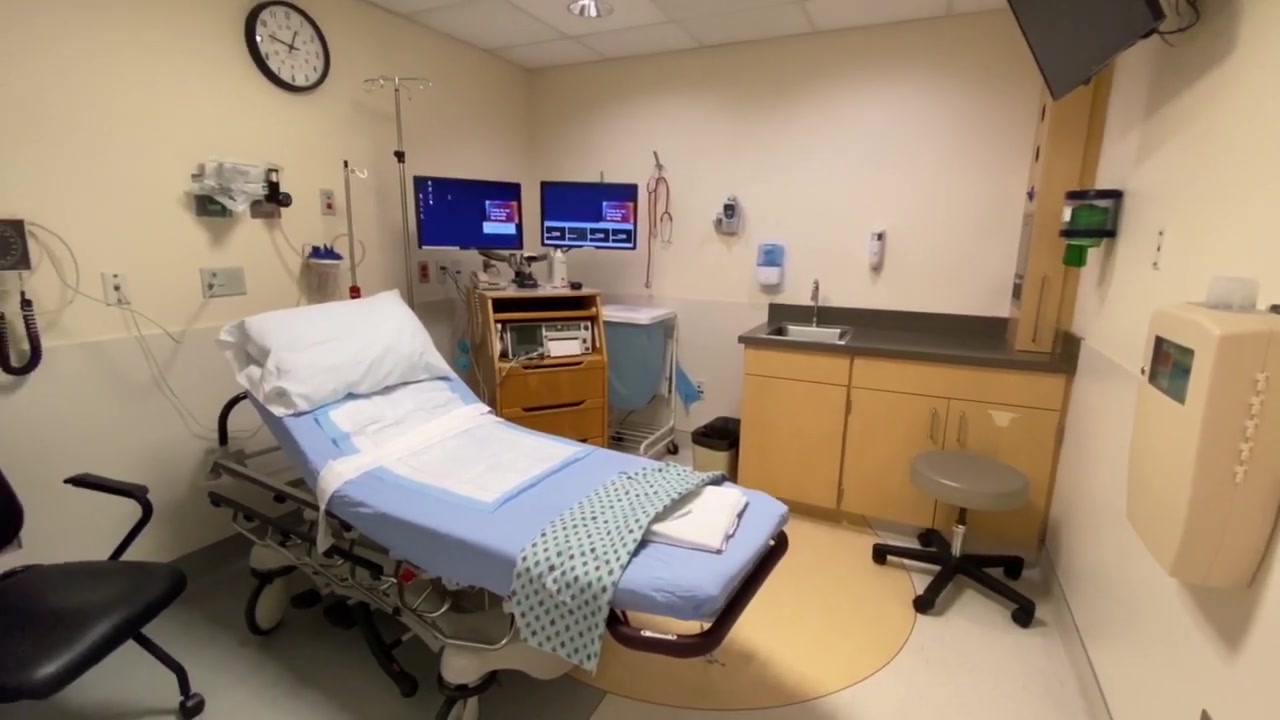TV: (1011, 1, 1167, 102)
cabinet: (738, 319, 1068, 569)
chair: (1, 470, 204, 720), (871, 450, 1037, 628)
computer: (412, 175, 524, 250), (540, 180, 639, 251)
countertop: (737, 317, 1066, 368)
dispenser: (754, 241, 785, 286), (868, 228, 887, 273)
drawer: (464, 282, 609, 442)
exam_table: (195, 289, 790, 720)
faucet: (809, 278, 821, 328)
handle: (927, 408, 941, 442), (955, 409, 967, 443)
iv_pole: (361, 75, 432, 311), (335, 158, 367, 301)
medical_waste_container: (1137, 269, 1280, 590)
sink: (759, 322, 857, 344)
telephone: (469, 271, 508, 290)
waste_bin: (600, 305, 679, 458), (689, 416, 740, 485)
